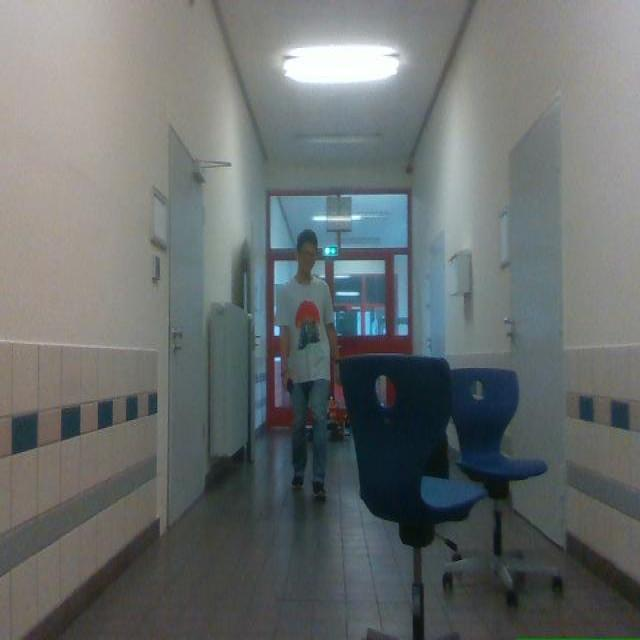humans: (276, 230, 336, 499)
objects: (340, 355, 485, 639), (443, 368, 562, 606)
